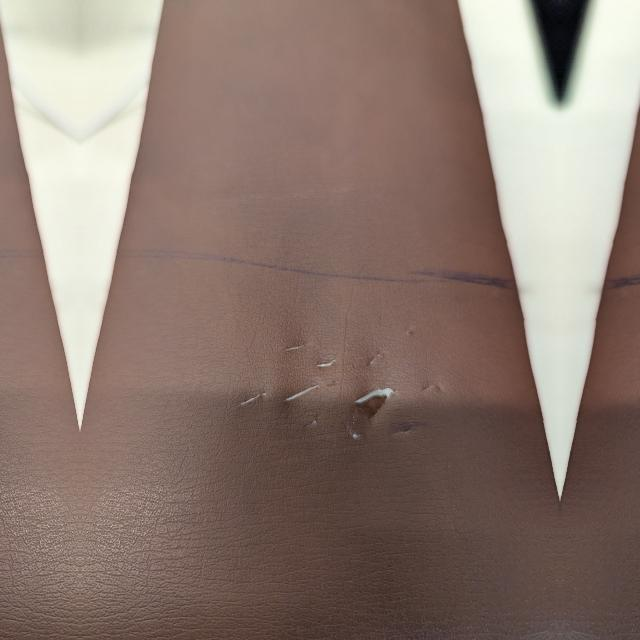belt_crack: (242, 304, 447, 448)
